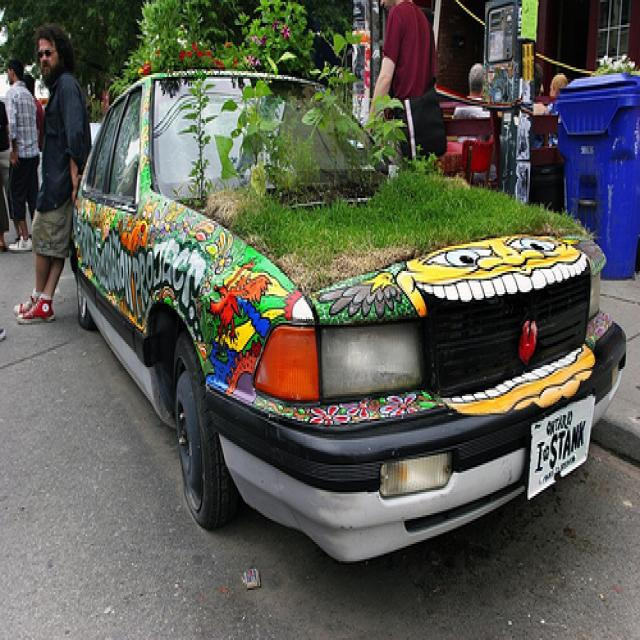Car: (76, 65, 628, 565)
